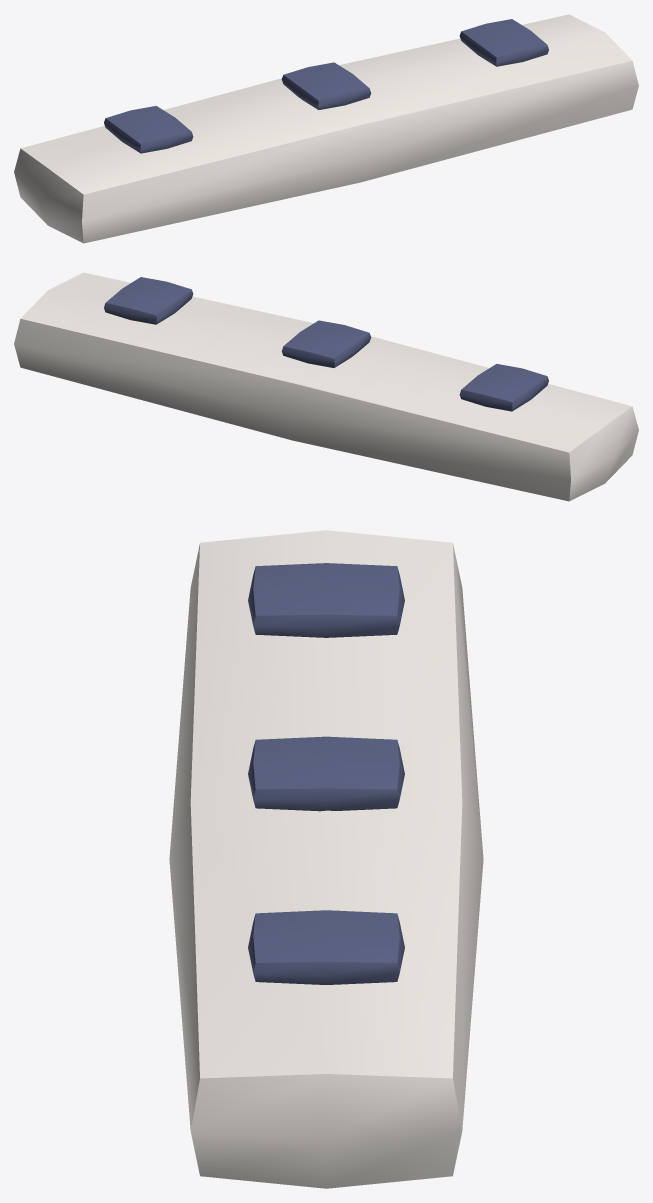
File: power-strip.glb
3 renders of one model, top to bottom at view 1: azimuth 30°, elevation 25°; view 2: azimuth 150°, elevation 25°; view 3: azimuth 270°, elevation 25°, orthographic. The views are drawn at different scales.
Parts seen in each view (by area): view 1: part (×4); view 2: part (×4); view 3: part (×4).
Part boxes in pixels (x1=…): part (×4): x1=14, y1=14, x2=638, y2=243; part (×4): x1=14, y1=272, x2=638, y2=501; part (×4): x1=169, y1=530, x2=483, y2=1188.
Bounding box in the file's own units: 0.55 × 0.0815 × 0.13.
Materials: 1 (1 with a texture image).
